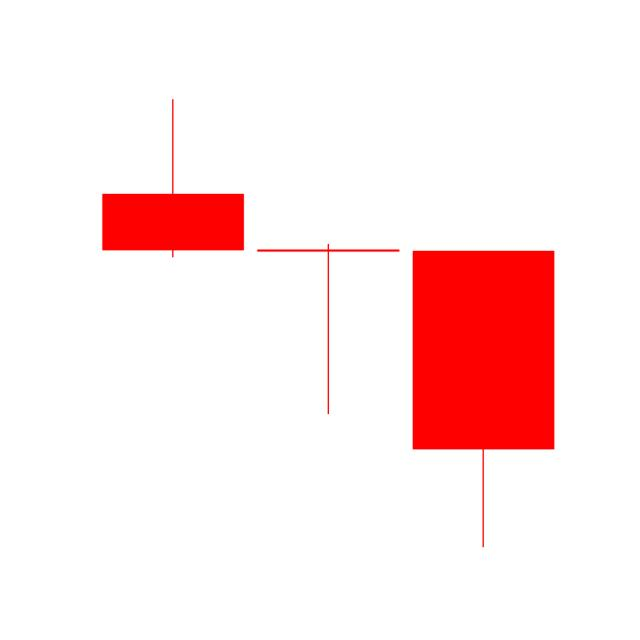Shooting Star: (95, 94, 248, 259)
